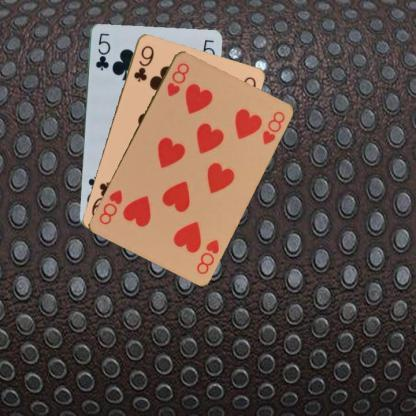5c: (93, 30, 112, 72)
8h: (194, 235, 221, 276), (164, 60, 191, 98)
9c: (130, 42, 155, 83)
